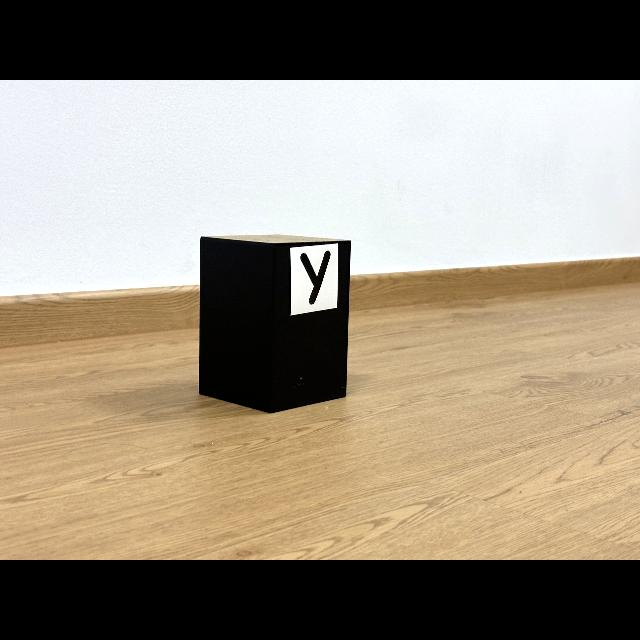Y: (300, 251, 330, 305)
